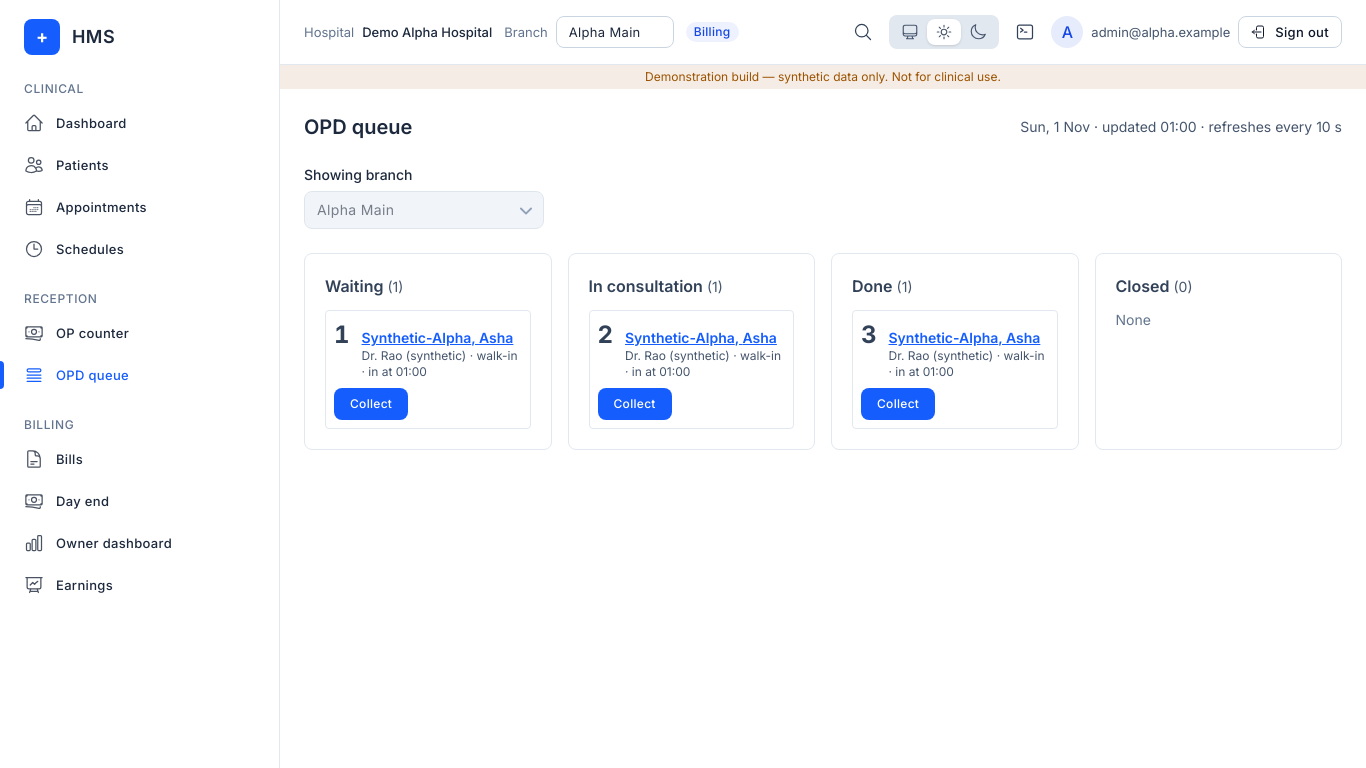
Test: QueueBoardPage › the billing role sees the queue read-only and can only Collect from a row
expect the number of list items with test id "queue-entry" is 3: met, box [325, 310, 530, 429]; [588, 310, 794, 429]; [852, 310, 1058, 429]
Click the button with aria-label "Collect for token 1" at {"x": 371, "y": 404}, box [334, 388, 408, 420]
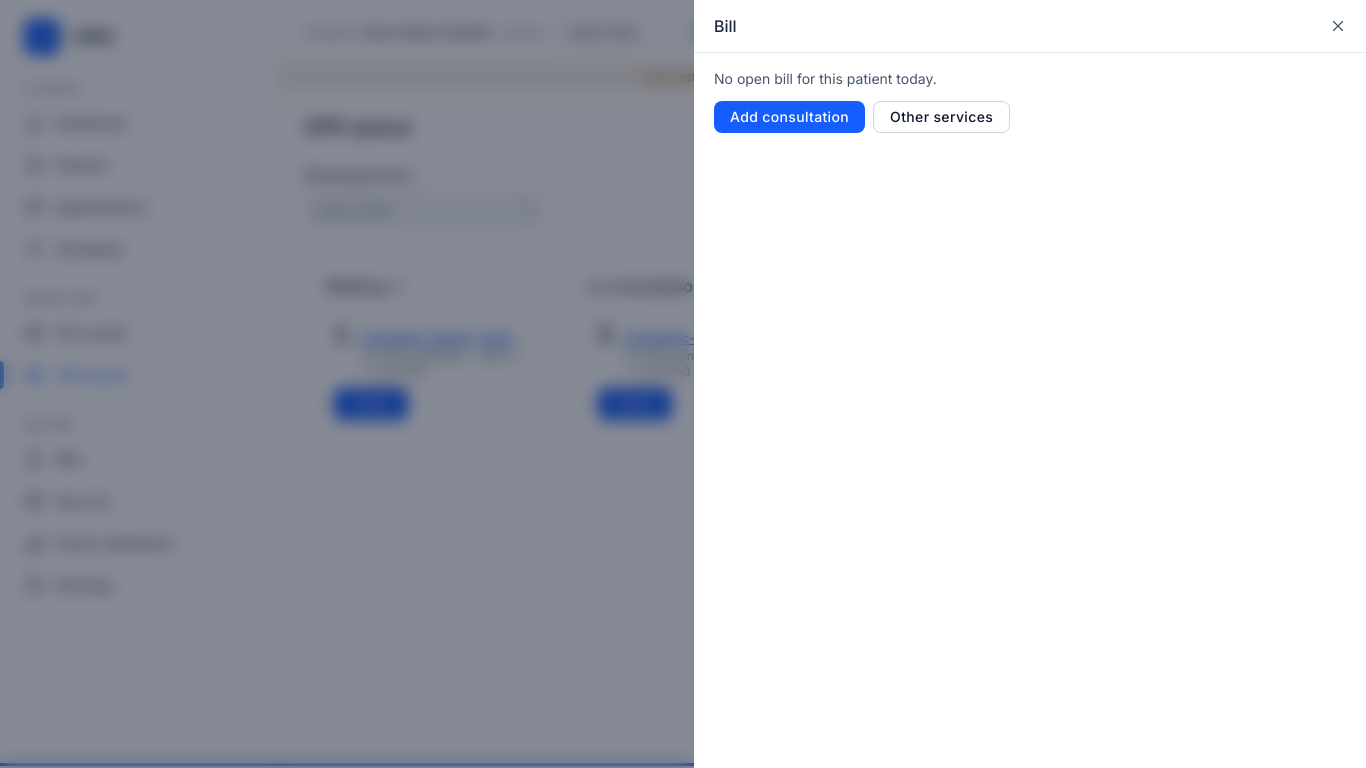
expect the element with test id "billing-panel-empty" is shown: met, box [714, 70, 1010, 133]
